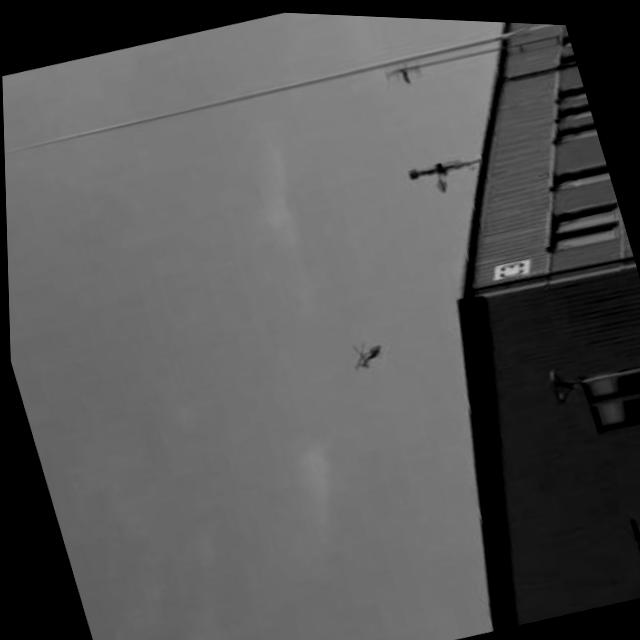helikopter: (338, 326, 392, 373)
